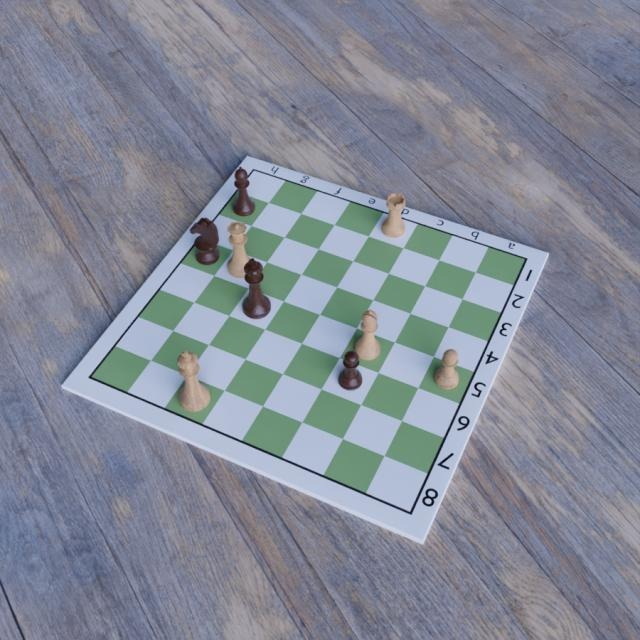black-bishop: (231, 166, 256, 218)
black-king: (240, 257, 271, 320)
black-knight: (188, 218, 221, 266)
black-pawn: (338, 350, 364, 390)
white-bishop: (355, 306, 381, 361)
white-king: (176, 347, 212, 412)
white-pawn: (433, 348, 461, 392)
white-queen: (226, 221, 254, 279)
white-rook: (380, 191, 407, 240)
